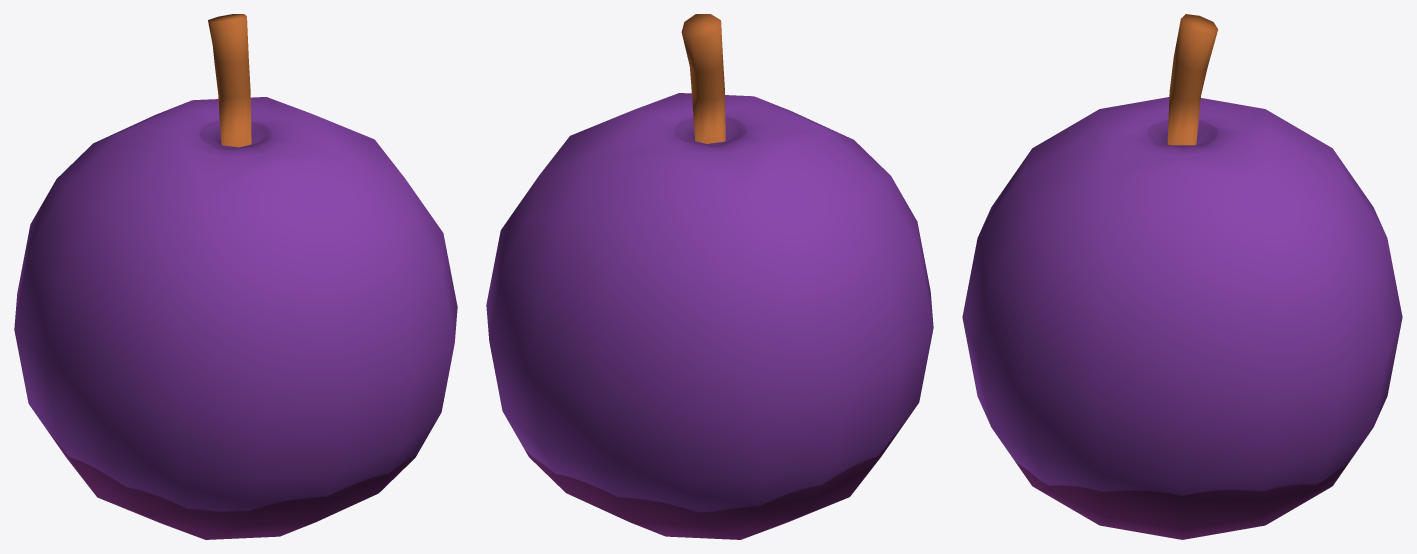
File: Apple_Poison.fbx
The picture shows the model from 3 angles, left to right: view 1: azimuth 30°, elevation 25°; view 2: azimuth 150°, elevation 25°; view 3: azimuth 270°, elevation 25°; orthographic projection.
Parts seen in each view (by area): view 1: Cube; view 2: Cube; view 3: Cube.
Part boxes in pixels (x1,y1,x2,y2): Cube: (14, 14, 457, 539); Cube: (486, 14, 933, 539); Cube: (962, 14, 1402, 539).
Size of the model in its own units: 168 by 210 by 168.
Materials: 1 (1 with a texture image).
